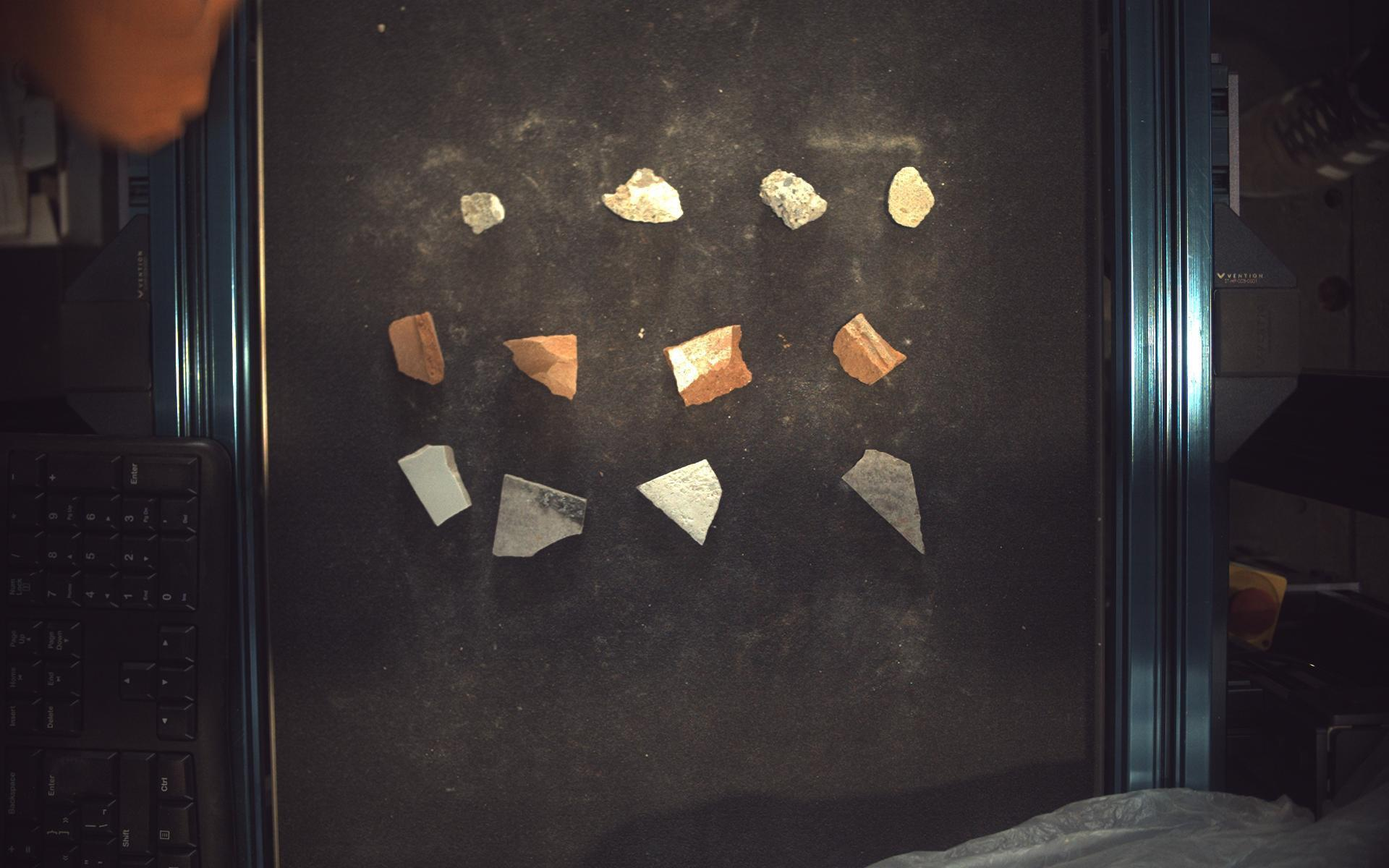brick: (666, 324, 753, 407), (835, 313, 908, 384), (505, 334, 578, 399), (388, 311, 444, 385)
concrete: (603, 167, 684, 222), (761, 168, 829, 229), (890, 166, 937, 227), (461, 191, 506, 234)
tile: (844, 450, 927, 553), (493, 475, 588, 558), (640, 459, 723, 546), (398, 445, 472, 527)
